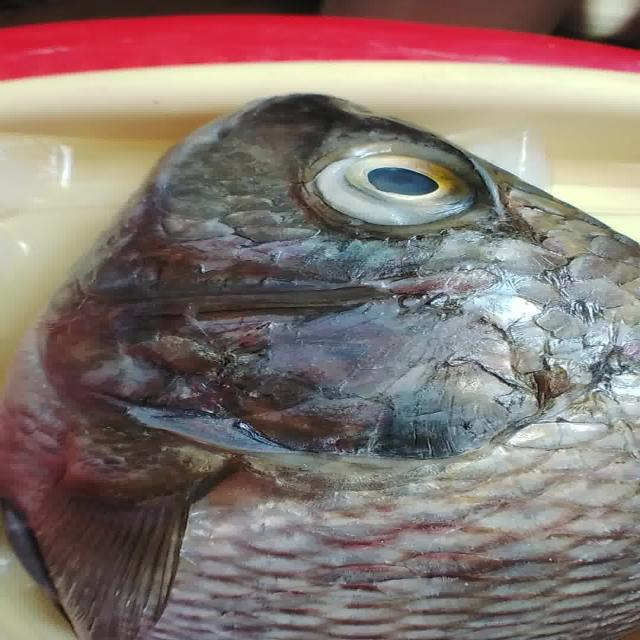Fresh: (29, 337, 640, 640), (300, 137, 512, 245)
